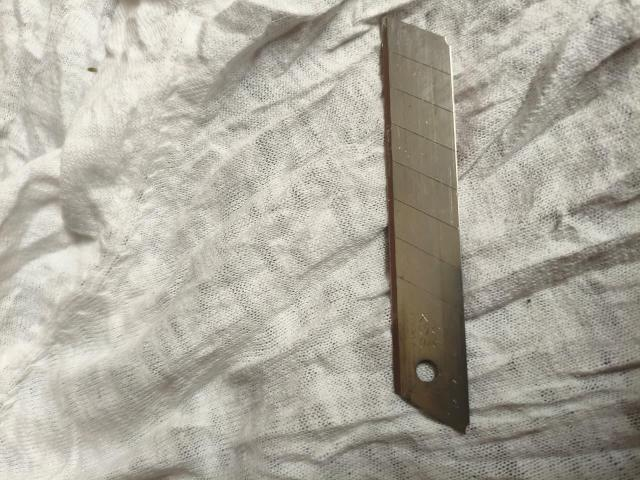Metal: (376, 15, 476, 434)
